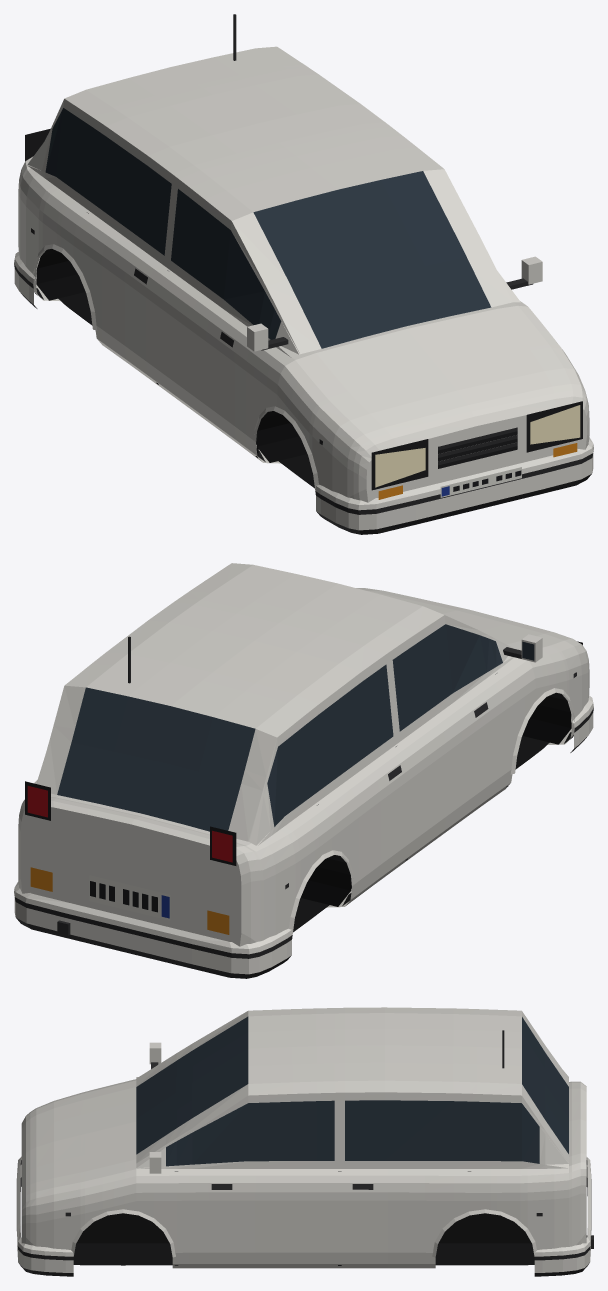
Rendered from fiat-punto.glb.
3 renders of one model, top to bottom at view 1: azimuth 30°, elevation 25°; view 2: azimuth 150°, elevation 25°; view 3: azimuth 270°, elevation 25°, orthographic. The views are drawn at different scales.
Parts seen in each view (by area): view 1: LOD0, door_FR, door_RR; view 2: LOD0, door_FR, door_RR; view 3: LOD0, door_FL, door_RL.
Part boxes in pixels (bbox=[...]): LOD0: bbox=[14, 14, 593, 534]; door_FR: bbox=[155, 179, 275, 453]; door_RR: bbox=[73, 120, 172, 380]; LOD0: bbox=[14, 563, 593, 978]; door_FR: bbox=[391, 615, 510, 855]; door_RR: bbox=[309, 655, 409, 899]; LOD0: bbox=[16, 1007, 593, 1276]; door_FL: bbox=[176, 1093, 337, 1263]; door_RL: bbox=[341, 1092, 469, 1263].
Size of what is drawn, in the model's own units: 1.85 by 1.63 by 3.94.
